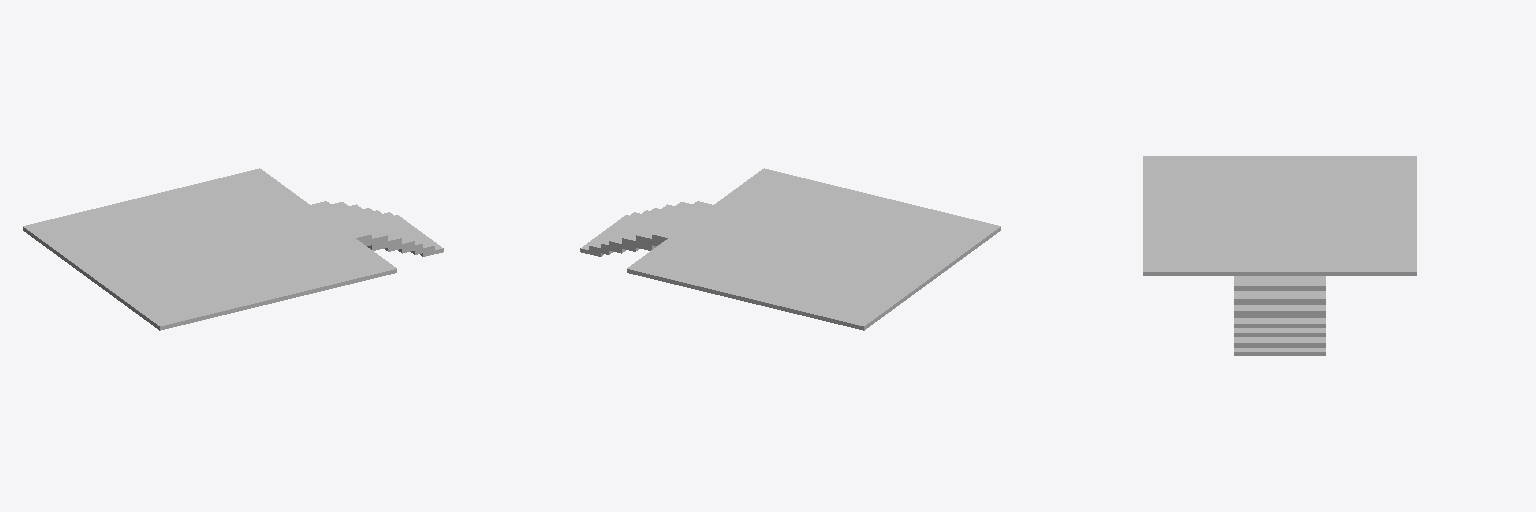
File: bugTester.obj
The picture shows the model from 3 angles: view 1: azimuth 30°, elevation 25°; view 2: azimuth 150°, elevation 25°; view 3: azimuth 270°, elevation 25°; orthographic projection.
Visible parts, largest first — view 1: Cube; view 2: Cube; view 3: Cube.
Part boxes in pixels (left/top/right/bottom): Cube: left=23, top=168, right=443, bottom=330; Cube: left=580, top=168, right=1000, bottom=330; Cube: left=1143, top=156, right=1416, bottom=355.
Size of the model in its own units: 12.67 by 1.45 by 9.14.